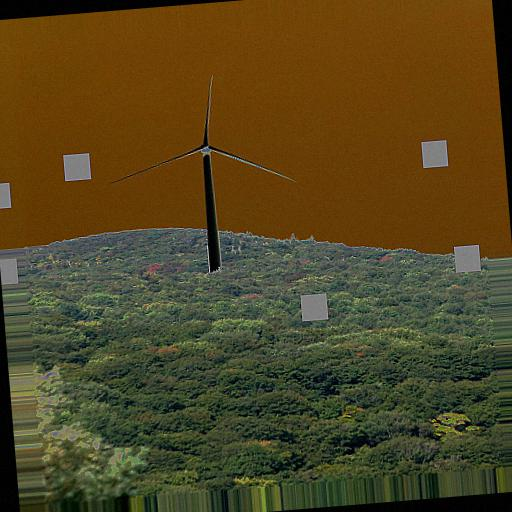wind turbine: (104, 73, 299, 273)
